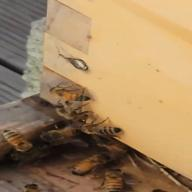Bee: (72, 122, 130, 140), (42, 86, 96, 105), (2, 126, 33, 150)
